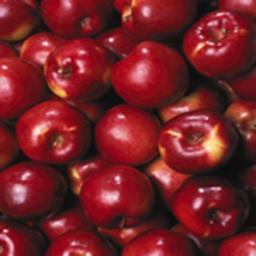apple: (179, 8, 253, 85), (112, 41, 190, 114), (159, 110, 241, 174), (15, 103, 93, 167), (173, 178, 250, 240), (78, 166, 156, 226), (42, 39, 116, 102), (95, 105, 161, 168), (1, 162, 69, 223), (39, 1, 116, 38), (1, 57, 43, 116), (118, 229, 201, 255), (217, 1, 255, 16)
